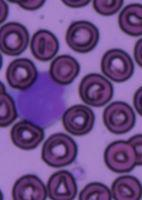M: (16, 68, 70, 127)
